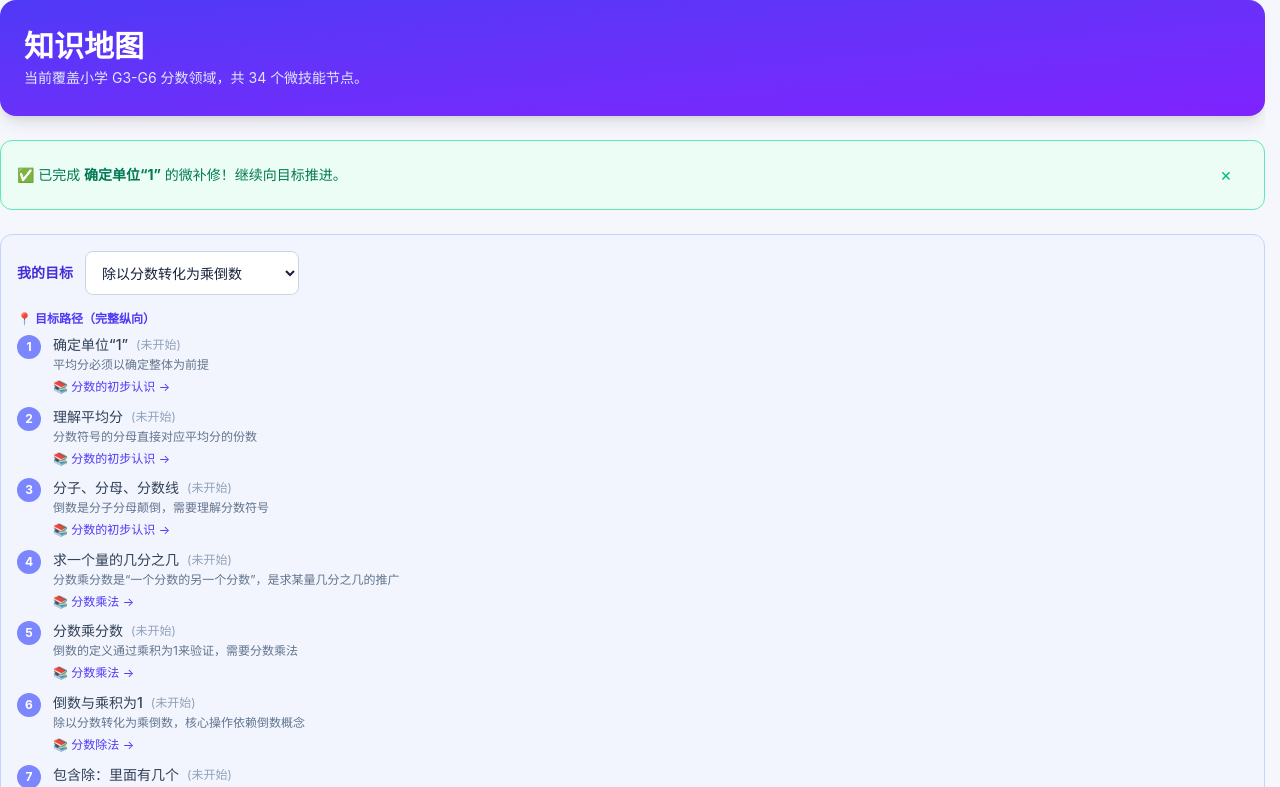
Test case: KnowledgeMapPage: URL target param › ?repaired= toast shows and is dismissable without auto-dismiss
The width and height of the screenshot is (1280, 787).
Check: the message "✅ 已完成 确定单位“1” 的微补修！继续向目标推进。 ×" is shown, box [0,140,1265,210]
# Click close: toast should disappear
Click the button named "关闭提示" at (1226, 175), box [1204,153,1248,197]
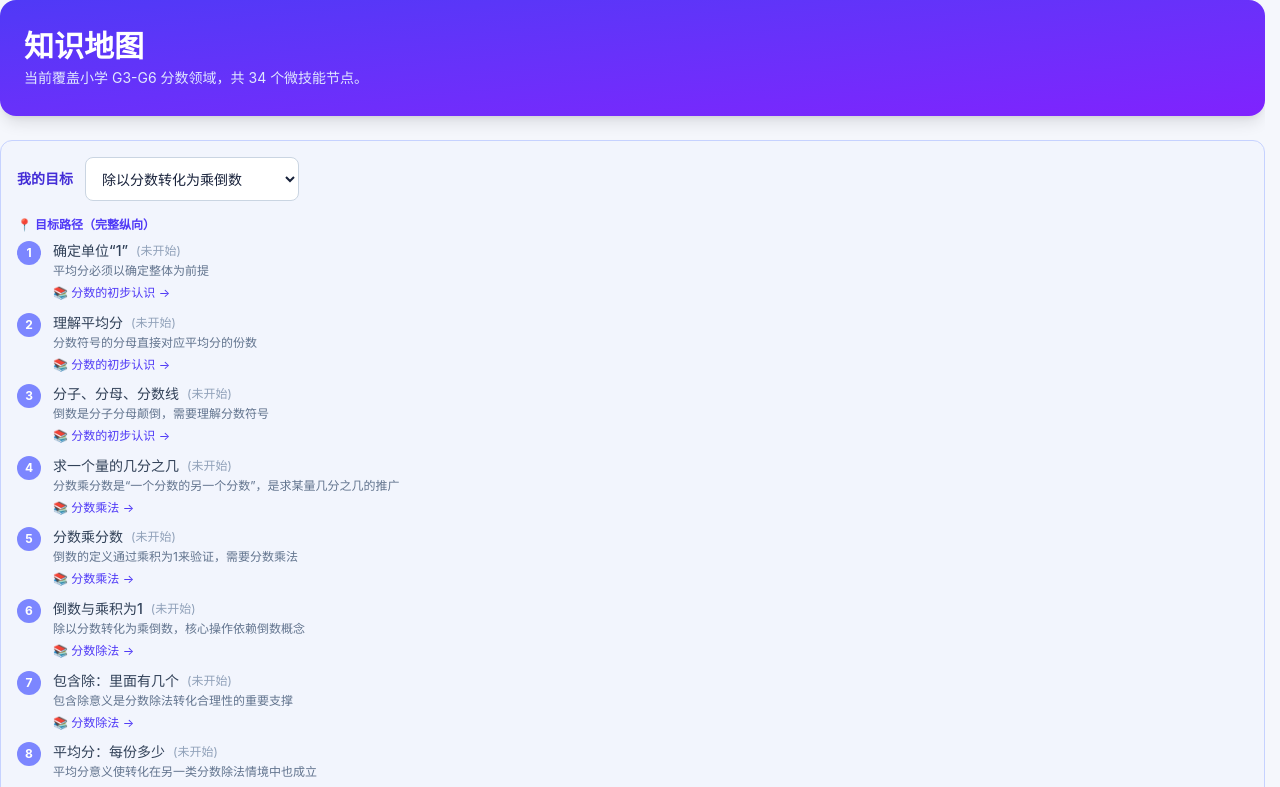
Check: the message "✅ 已完成 确定单位“1” 的微补修！继续向目标推进。 ×" is gone
